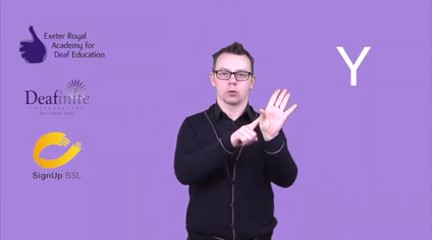Y: (226, 85, 301, 150)
